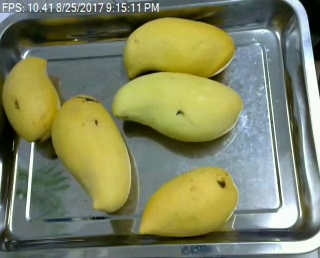Mango: (47, 92, 134, 214), (110, 69, 247, 145), (122, 16, 242, 80), (137, 167, 239, 238), (0, 51, 60, 142)
